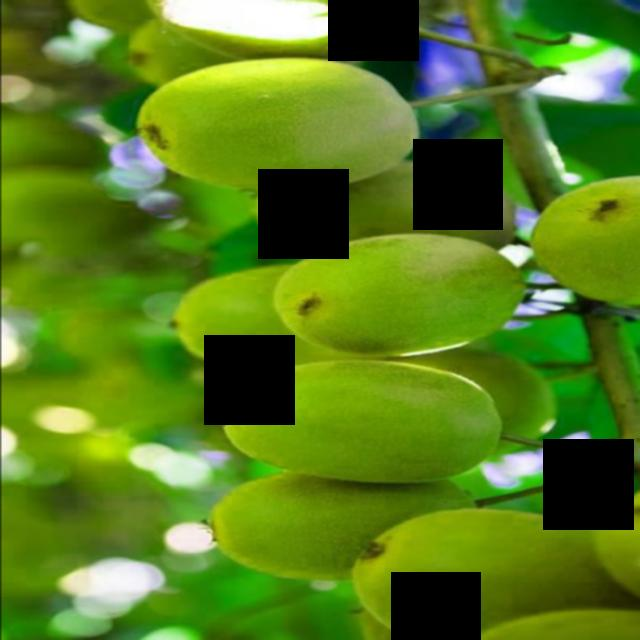kiwi: (136, 57, 432, 197), (204, 354, 502, 488), (348, 503, 638, 640), (195, 466, 478, 588), (275, 230, 534, 362), (248, 159, 525, 261), (161, 257, 337, 381), (398, 338, 563, 459), (134, 1, 420, 63), (531, 172, 640, 309), (115, 8, 233, 96), (579, 484, 640, 602)
